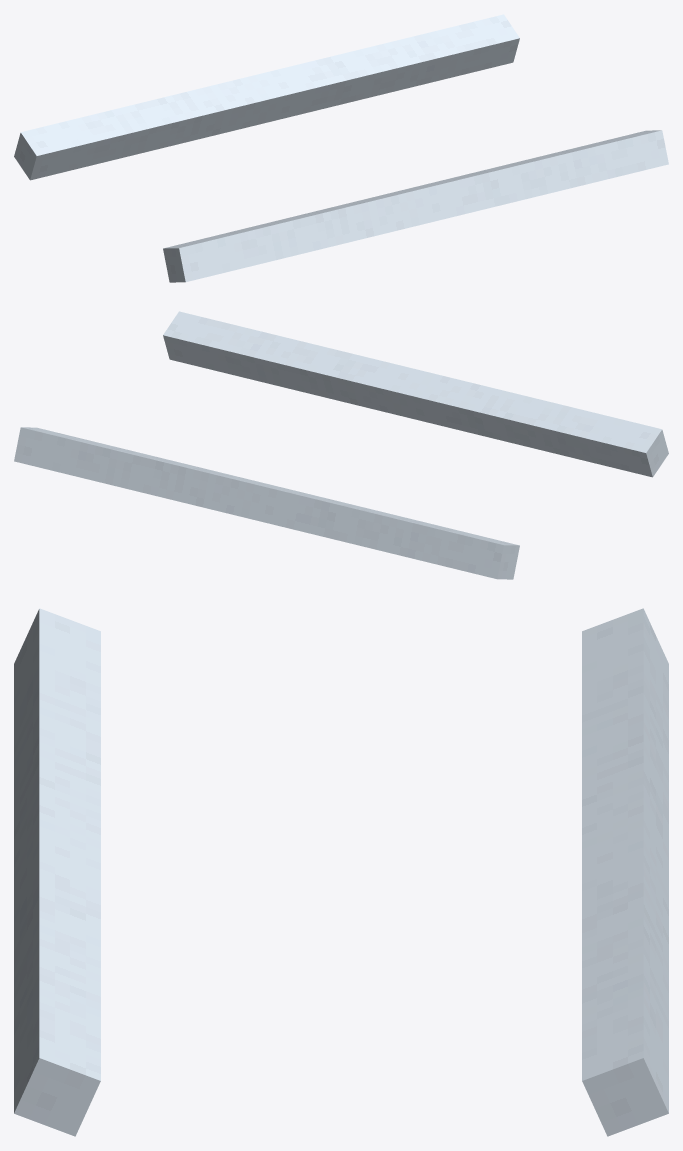
Rendered from platform_light_full_light.obj.
The picture shows the model from 3 angles, top to bottom: view 1: azimuth 30°, elevation 25°; view 2: azimuth 150°, elevation 25°; view 3: azimuth 270°, elevation 25°; orthographic projection. The views are drawn at different scales.
Visible parts, largest first — view 1: 0, 1; view 2: 1, 0; view 3: 0, 1.
Part boxes in pixels (x1,y1,x2,y2): 0: (14,14,519,180); 1: (163,130,668,282); 1: (163,311,668,477); 0: (14,427,519,579); 0: (582,608,668,1136); 1: (14,608,100,1136).
Size of the model in its own units: 16 by 1.31 by 9.85.
